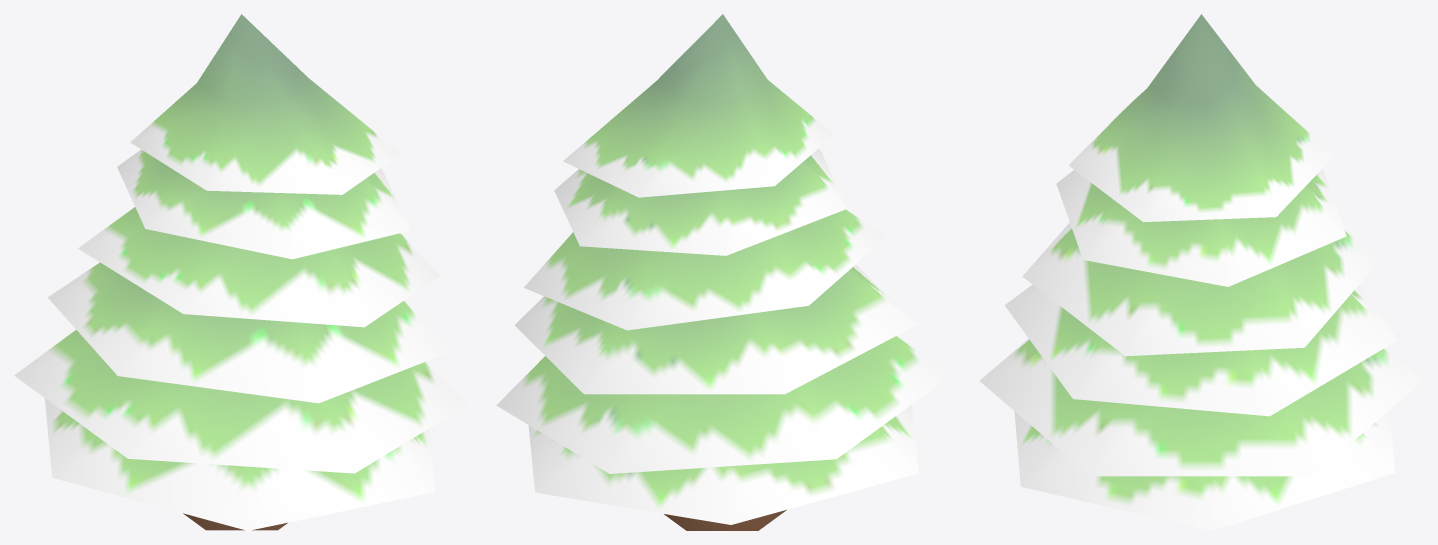
Rendered from tree_01.glb.
3 renders of one model, left to right at view 1: azimuth 30°, elevation 25°; view 2: azimuth 150°, elevation 25°; view 3: azimuth 270°, elevation 25°, orthographic. The views are drawn at different scales.
Visible parts, largest first — view 1: Tree; view 2: Tree; view 3: Tree.
Boxes of the visible parts, left/top/right/bottom form: Tree: left=14, top=14, right=467, bottom=530; Tree: left=496, top=14, right=950, bottom=530; Tree: left=980, top=14, right=1422, bottom=530.
Size of the model in its own units: 3.44 by 4.2 by 3.54.
1 material, 1 textured.
